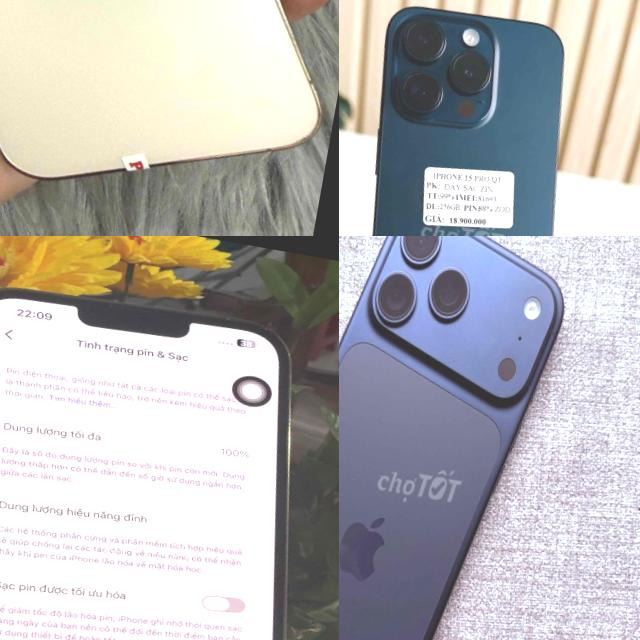gen_12_13: (0, 272, 339, 640), (0, 0, 339, 225)
gen_15: (339, 0, 618, 236)
gen_17: (339, 236, 587, 640)
